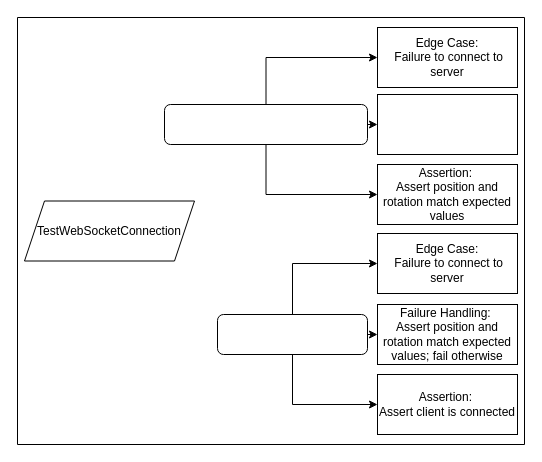
This 542x462 diagram has some shape labels left out. The shapes that lost their labels are listed below. From the top down, each one's centre as x and y in pixels, then its label:
At (x=266, y=124): "TestReceivedMessageFormat6DoF".
At (x=447, y=124): "Failure Handling: Assert that the client is connected; fail otherwise".
At (x=292, y=334): "TestBasicConnection".
